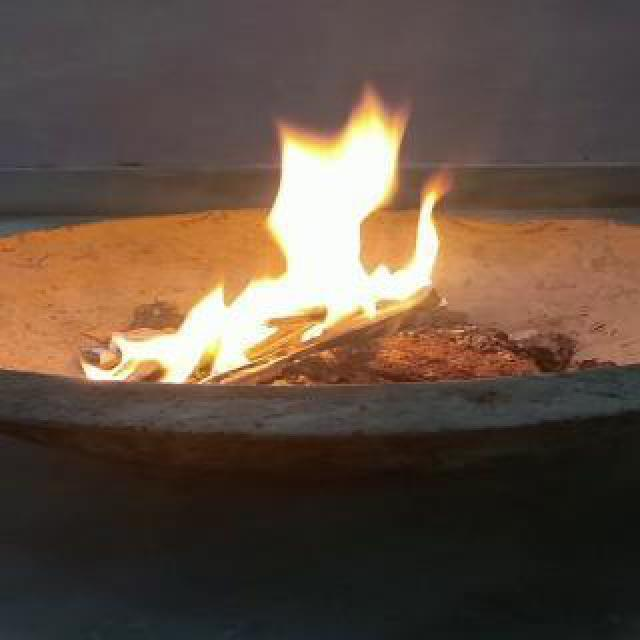Fire: (106, 86, 478, 402)
